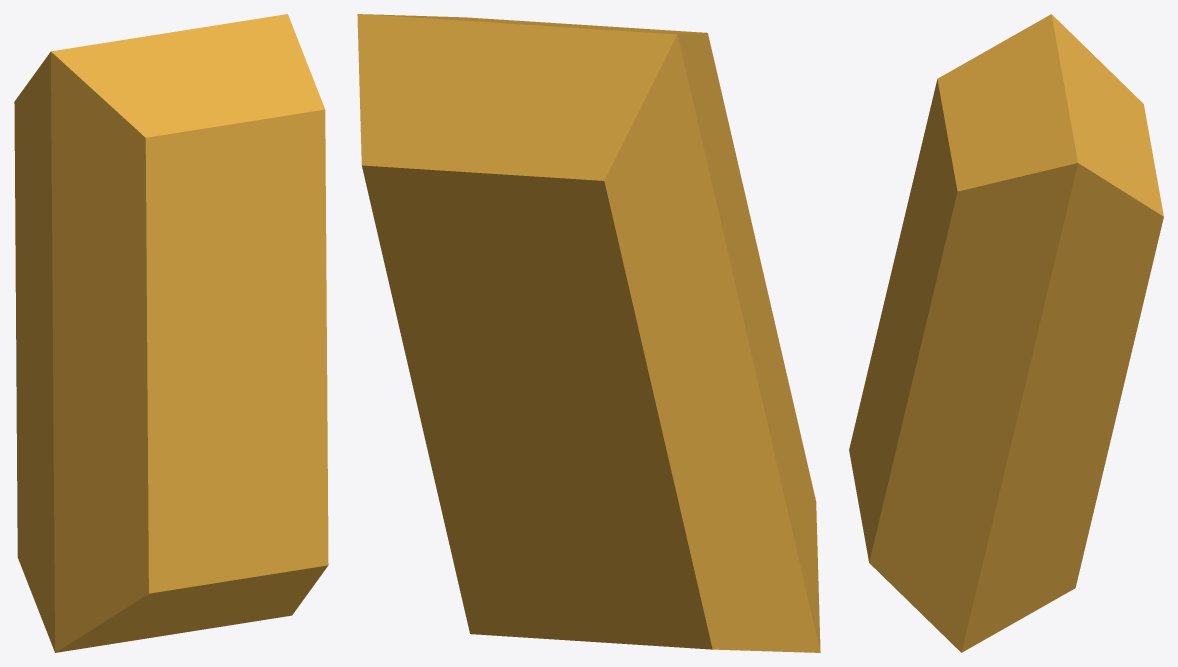
The model's file is Ore01.fbx.
3 views of the same model, side by side, from view 1: azimuth 30°, elevation 25°; view 2: azimuth 150°, elevation 25°; view 3: azimuth 270°, elevation 25° (orthographic). The views are drawn at different scales.
Visible parts, largest first — view 1: Cube.003; view 2: Cube.003; view 3: Cube.003.
Boxes of the visible parts, x1,y1,x2,y2 form: Cube.003: (14,14,328,652); Cube.003: (357,14,820,652); Cube.003: (849,14,1163,652).
Size of the model in its own units: 42.51 by 76.07 by 39.56.
